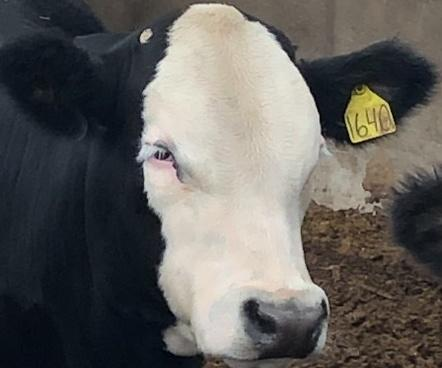muzzles: (196, 279, 332, 364)
